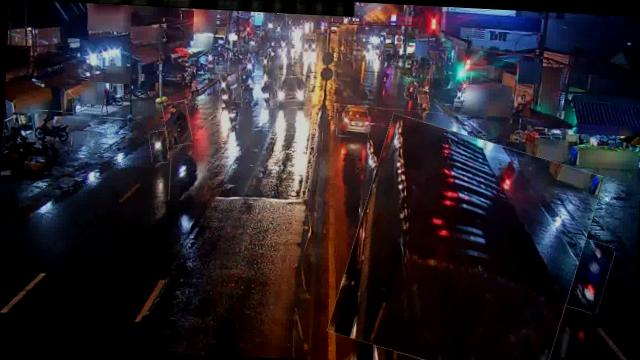Bike: (564, 238, 612, 312), (472, 146, 510, 192), (34, 110, 74, 148), (168, 157, 200, 201), (162, 100, 192, 146), (148, 130, 170, 164), (257, 79, 276, 108), (226, 100, 241, 128), (241, 83, 256, 109), (218, 86, 234, 108), (417, 88, 430, 113), (404, 78, 418, 99), (243, 56, 257, 74), (218, 72, 230, 90), (238, 66, 248, 82)
Car: (336, 103, 370, 138), (276, 74, 309, 108)
Truck: (337, 122, 594, 360)
